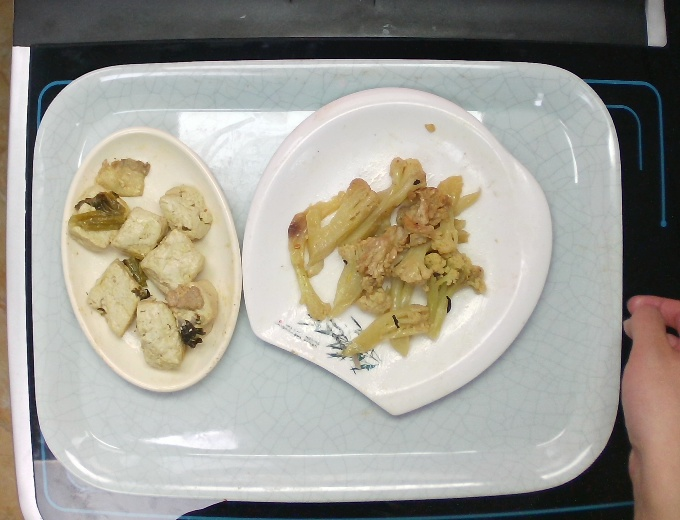JYsf-Mian_Pan: (237, 84, 555, 419)
JYsf-Tuo_Yuan_Wan: (55, 118, 245, 398)
